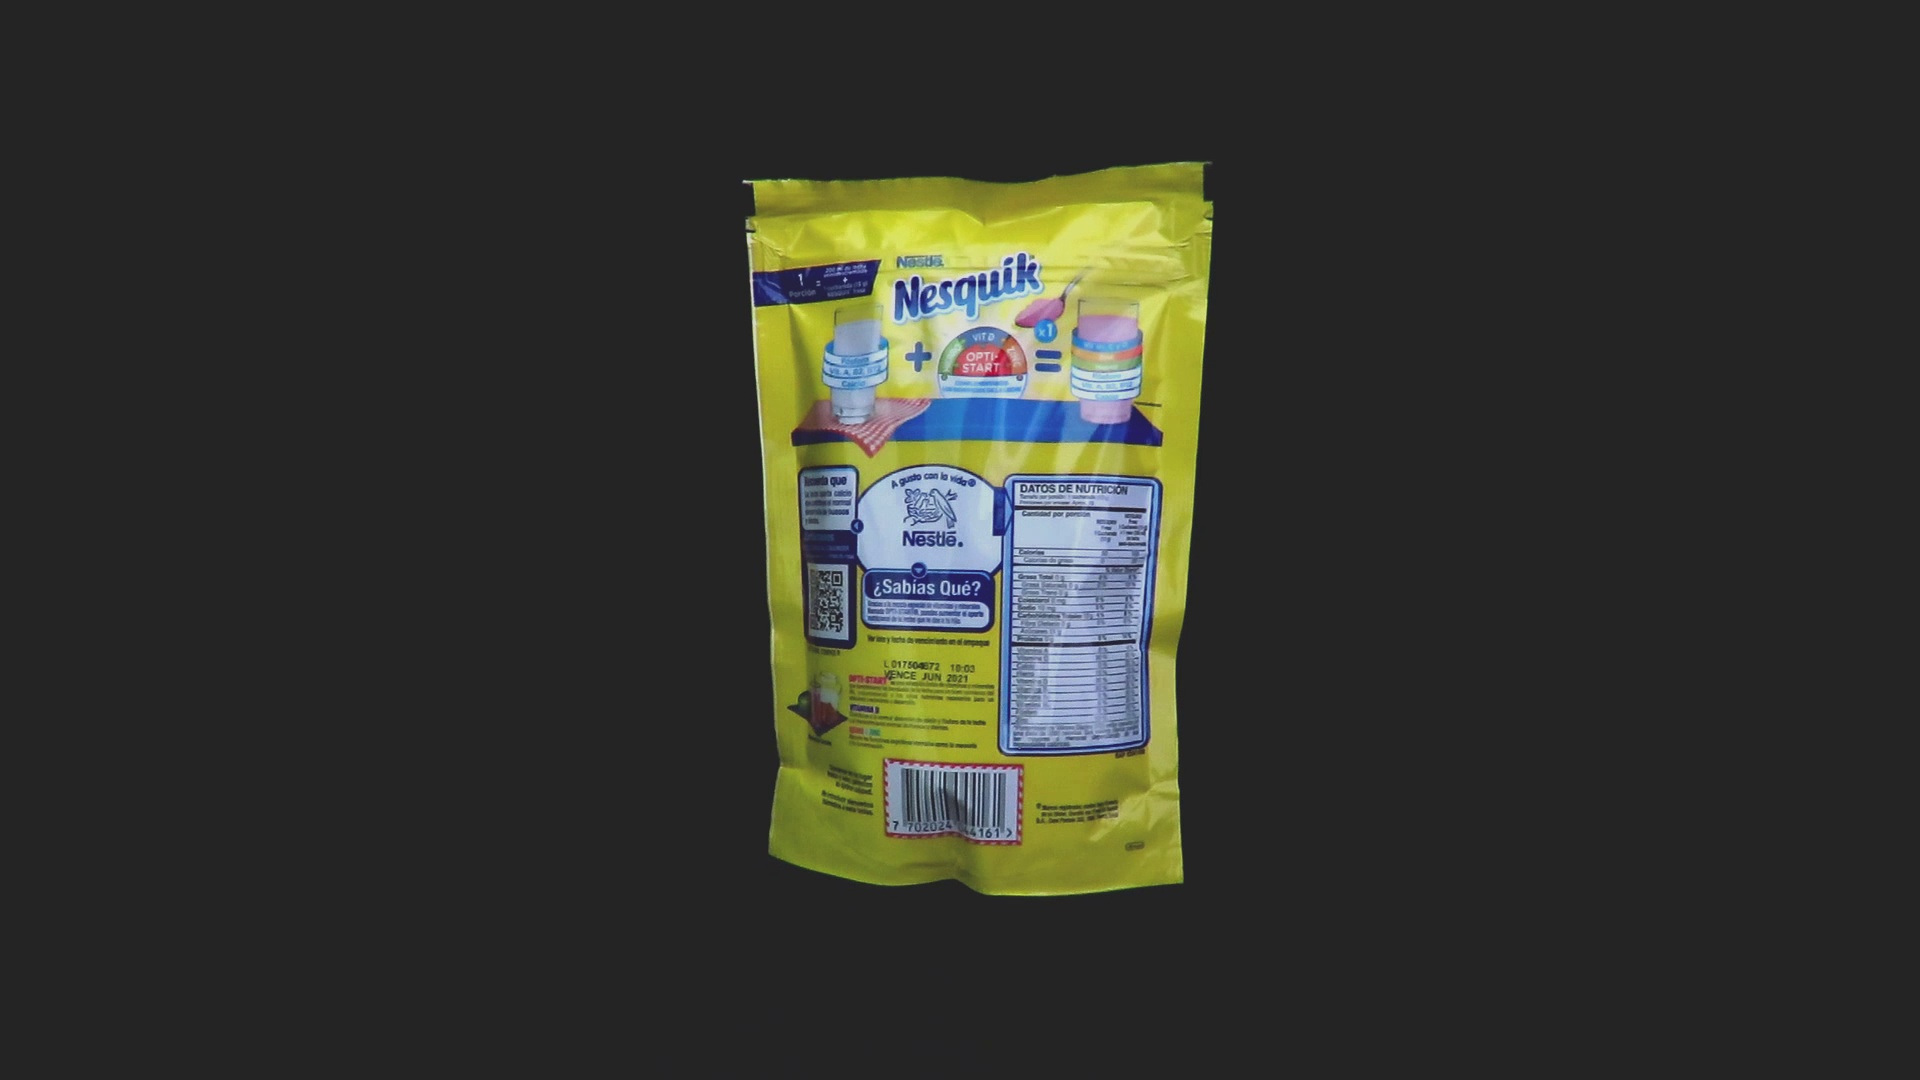COL0170305DYP20000: (737, 156, 1220, 902)
